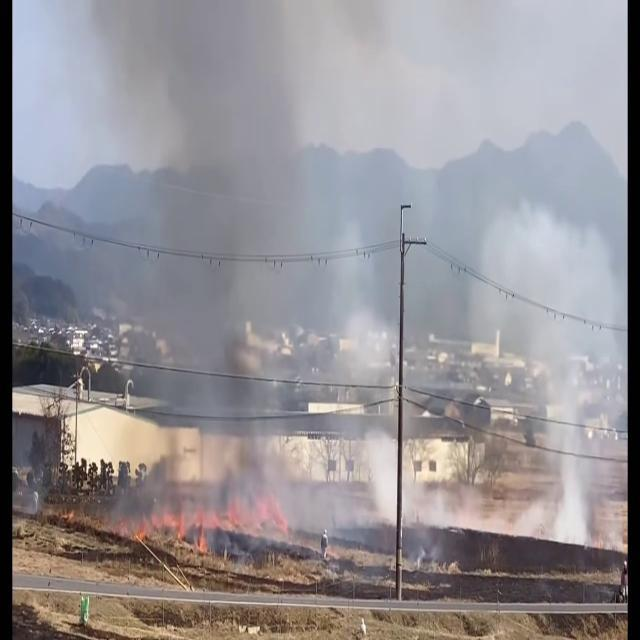Smoke: (91, 1, 623, 554)
